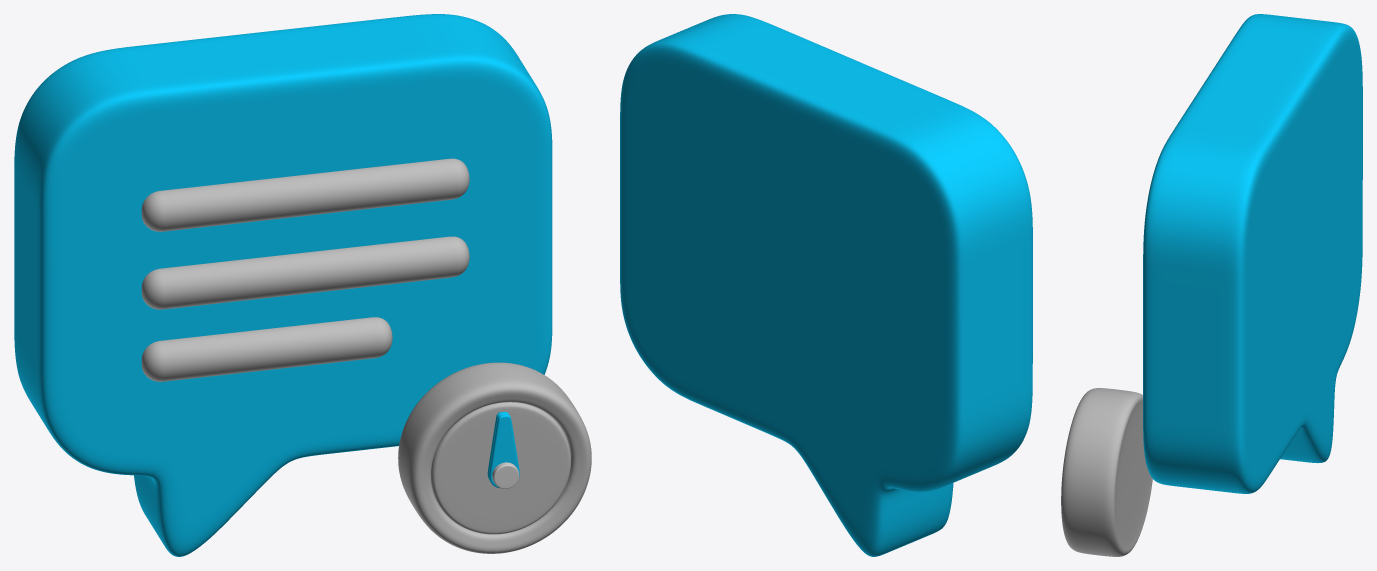
The model's file is missed-message-animated-3d-icon-27290880536.glb.
3 renders of one model, left to right at view 1: azimuth 30°, elevation 25°; view 2: azimuth 150°, elevation 25°; view 3: azimuth 270°, elevation 25°, orthographic. The views are drawn at different scales.
Parts seen in each view (by area): view 1: Bubble Chat.007, Base 1, Text 2.001, Text 1.001, Base 2, Text 3.001, Minute Hand; view 2: Bubble Chat.007; view 3: Bubble Chat.007, Base 1.
Part boxes in pixels (x1,y1,x2,y2): Bubble Chat.007: (14,14,552,556); Base 1: (398,362,591,553); Text 2.001: (141,236,469,309); Text 1.001: (141,158,469,231); Base 2: (431,402,570,534); Text 3.001: (141,317,392,381); Minute Hand: (489,414,519,488); Bubble Chat.007: (620,14,1032,556); Bubble Chat.007: (1143,14,1362,493); Base 1: (1061,388,1152,556).
Bounding box in the file's own units: 1.81 × 1.75 × 1.15.
